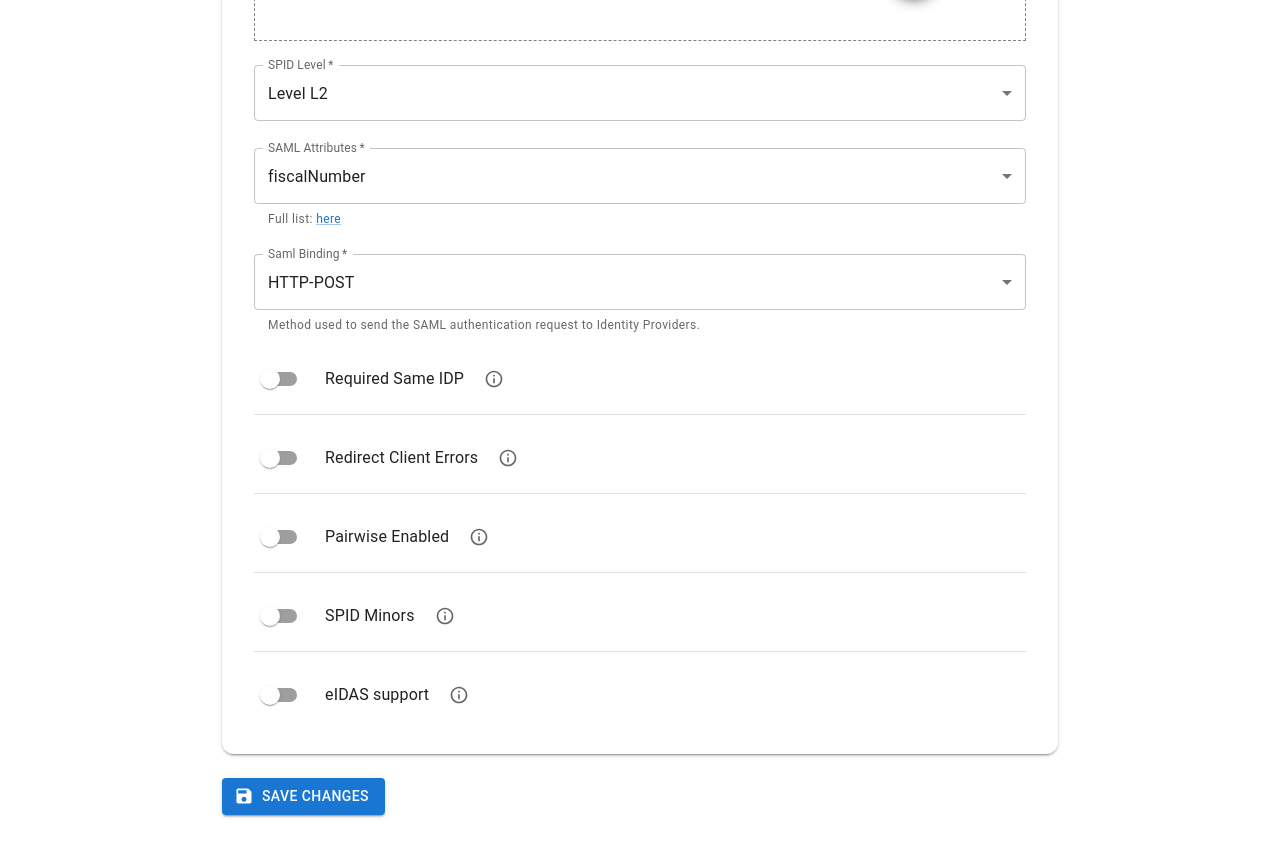
Test: Dashboard SPID Minors › opens confirm dialog when SPID Minors is toggled on in update mode
(page scrolled)
# Abilito SPID Minors
Click the checkbox labelled "SPID Minors".
click(337, 616)  # box [260, 606, 415, 626]
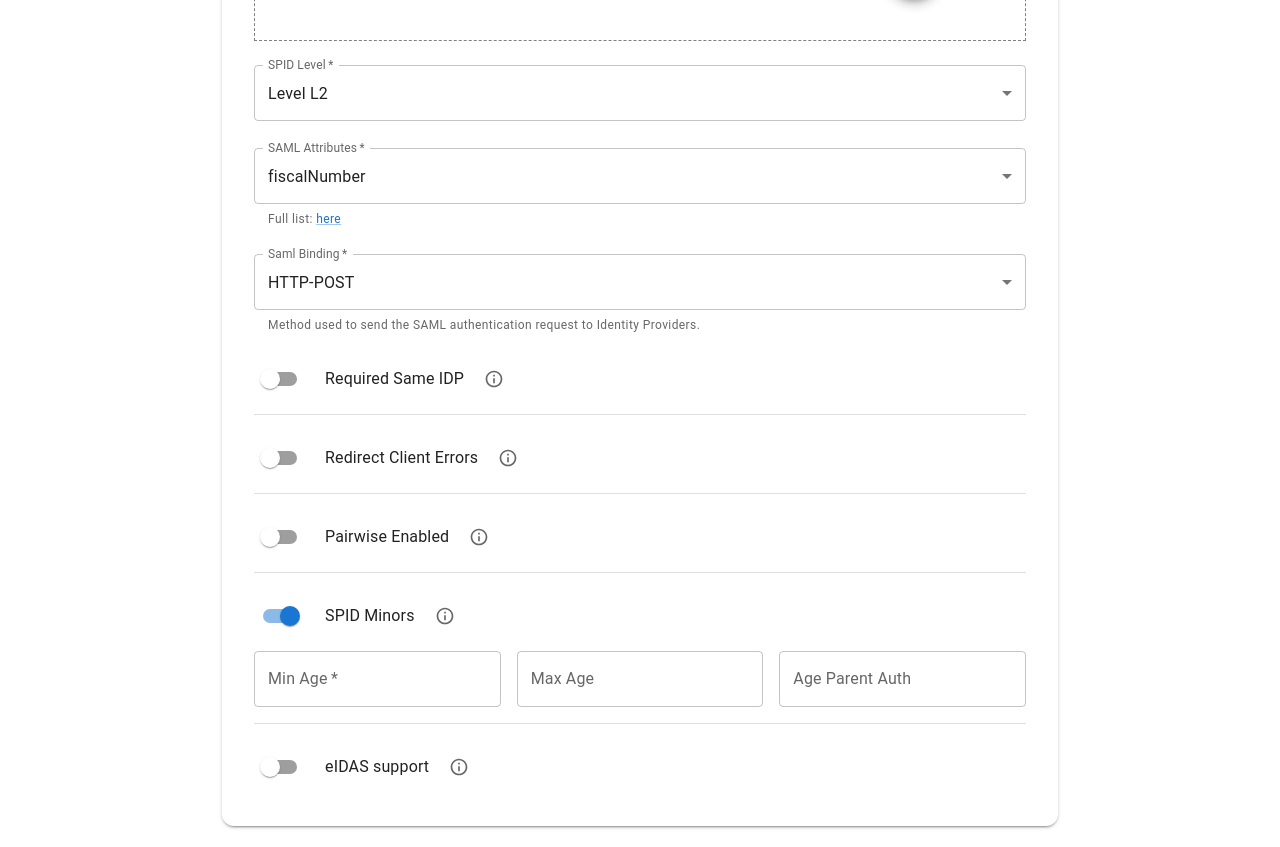
# Compilo minAge (obbligatorio quando spidMinors è abilitato)
Type "10" into the number field labelled "Min Age *".
click(377, 679); type("10")  # box [254, 651, 501, 707]
(page scrolled)
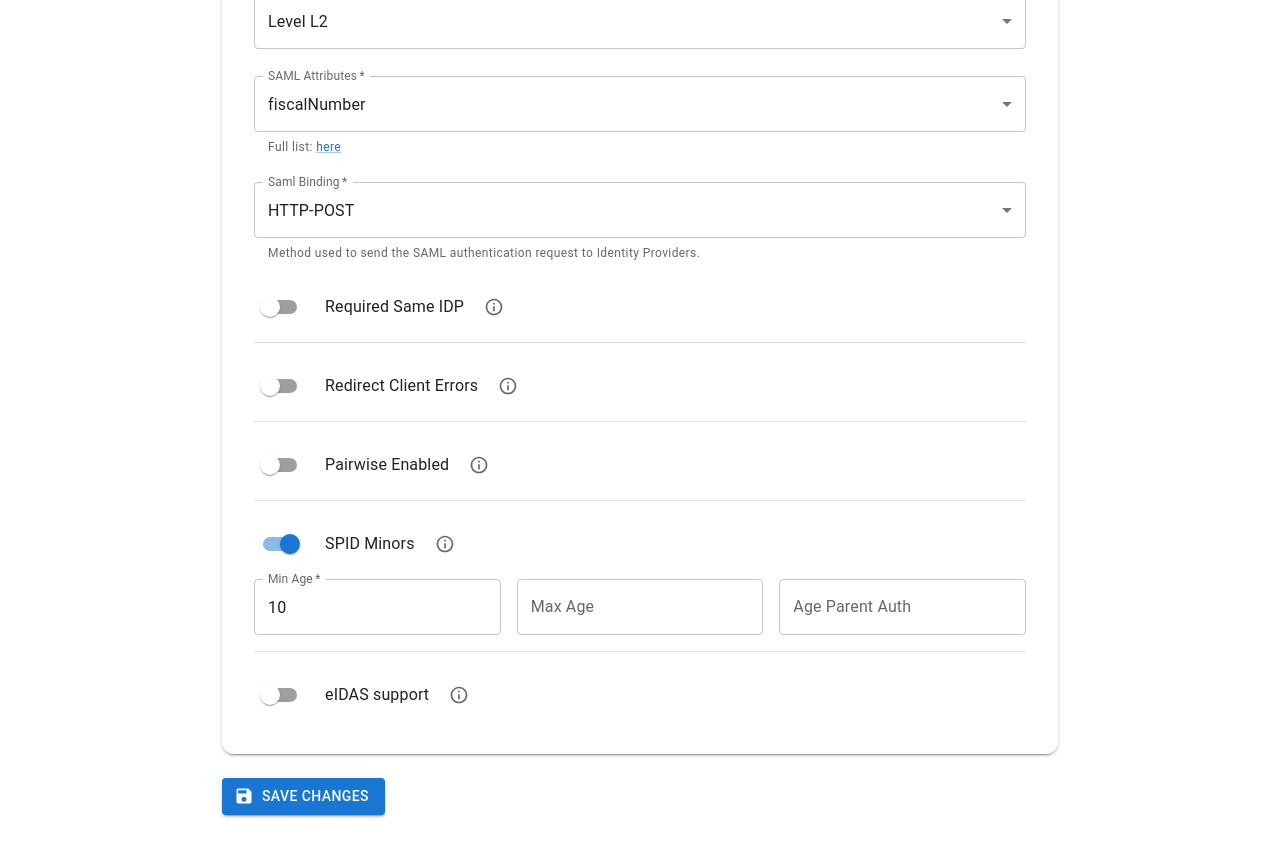
Expected: the button with test id "submit-button" is enabled
Click the button with test id "submit-button".
click(303, 796)  # box [222, 778, 385, 815]
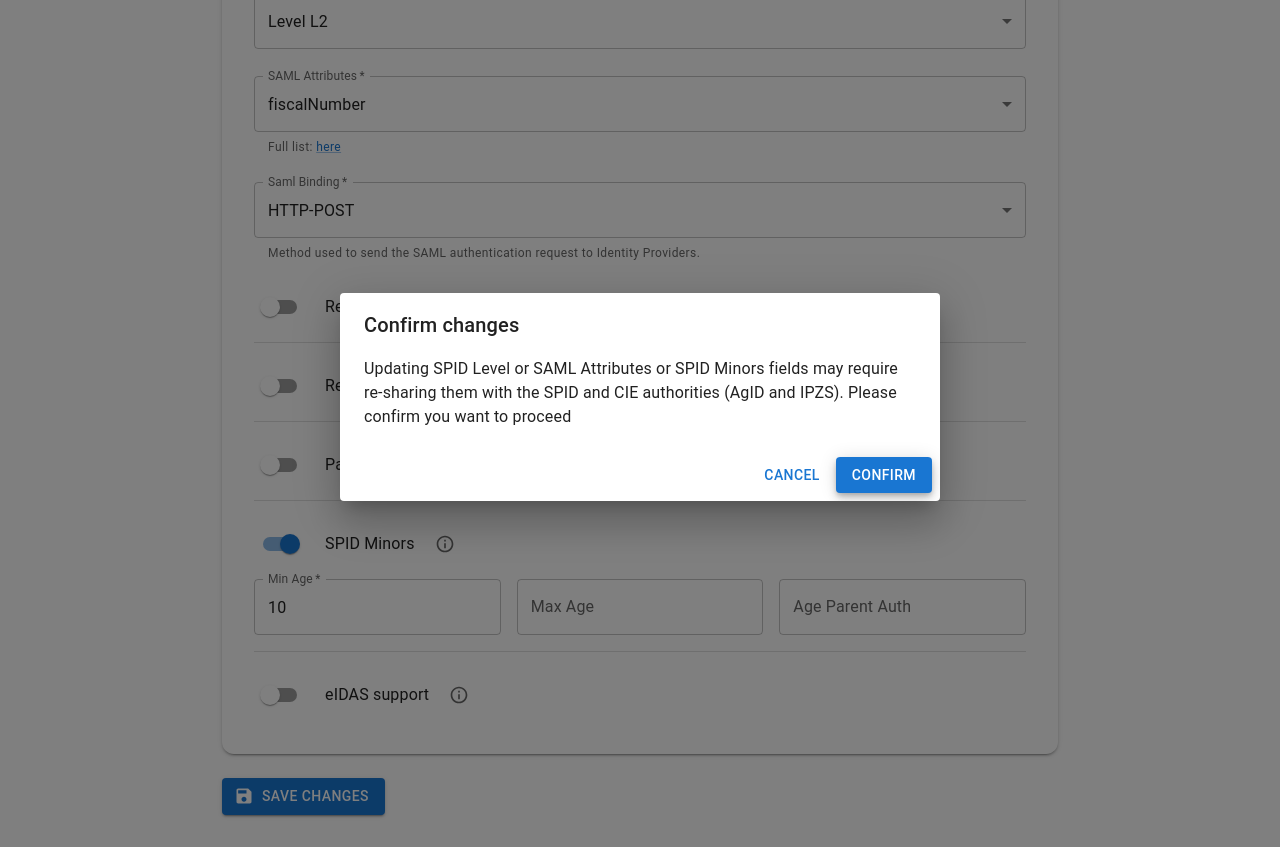
Expected: the dialog "Confirm changes" is shown, [340, 293, 940, 501]
